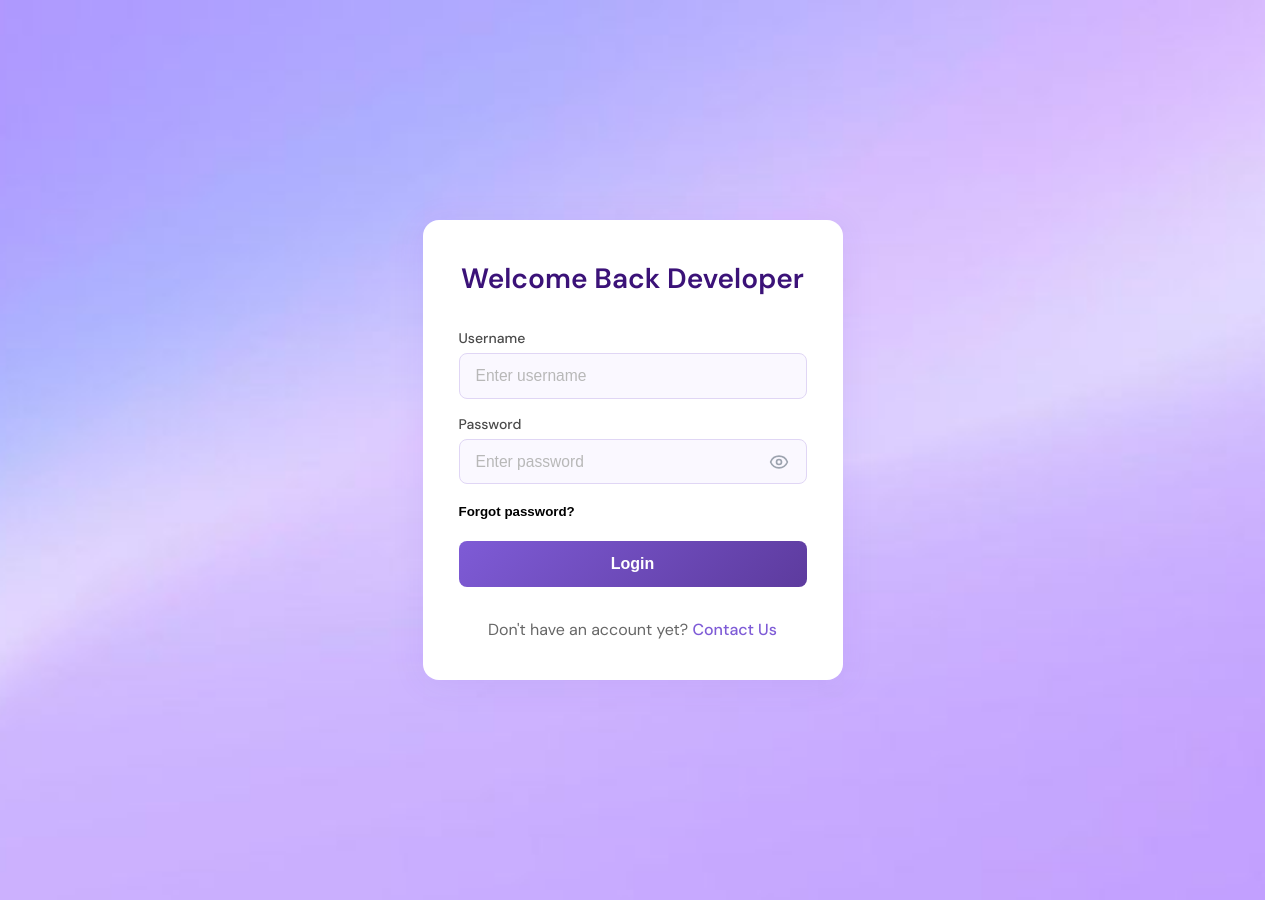
Scenario: LoginPage › shows a server-unreachable message when there is no response at all (network error)
Step 1. Type "devuser" into the field with placeholder "Enter username" → (632, 376), box [458,353,806,398]
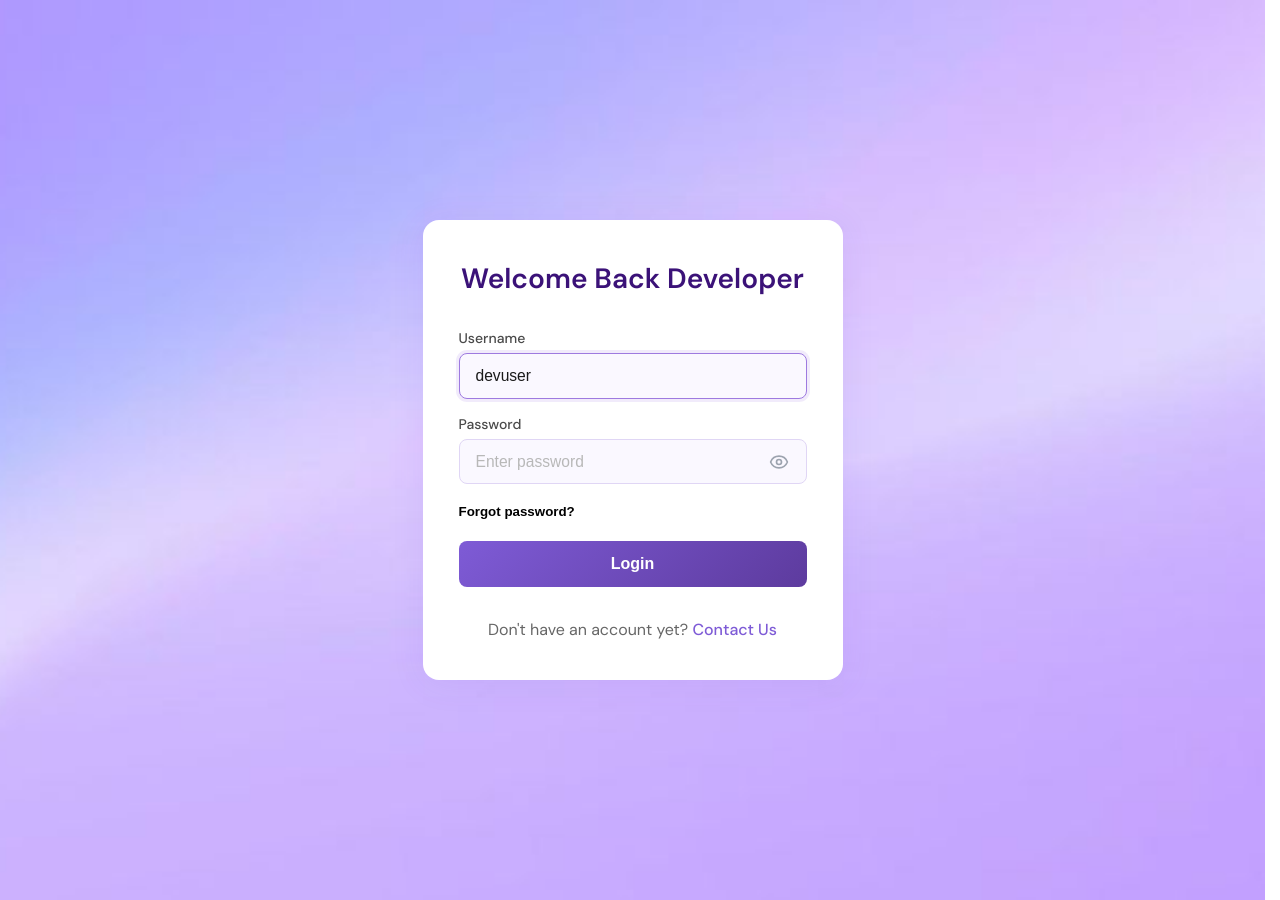
Step 2. Type "Password123!" into the password field with placeholder "Enter password" → (632, 462), box [458,439,806,484]
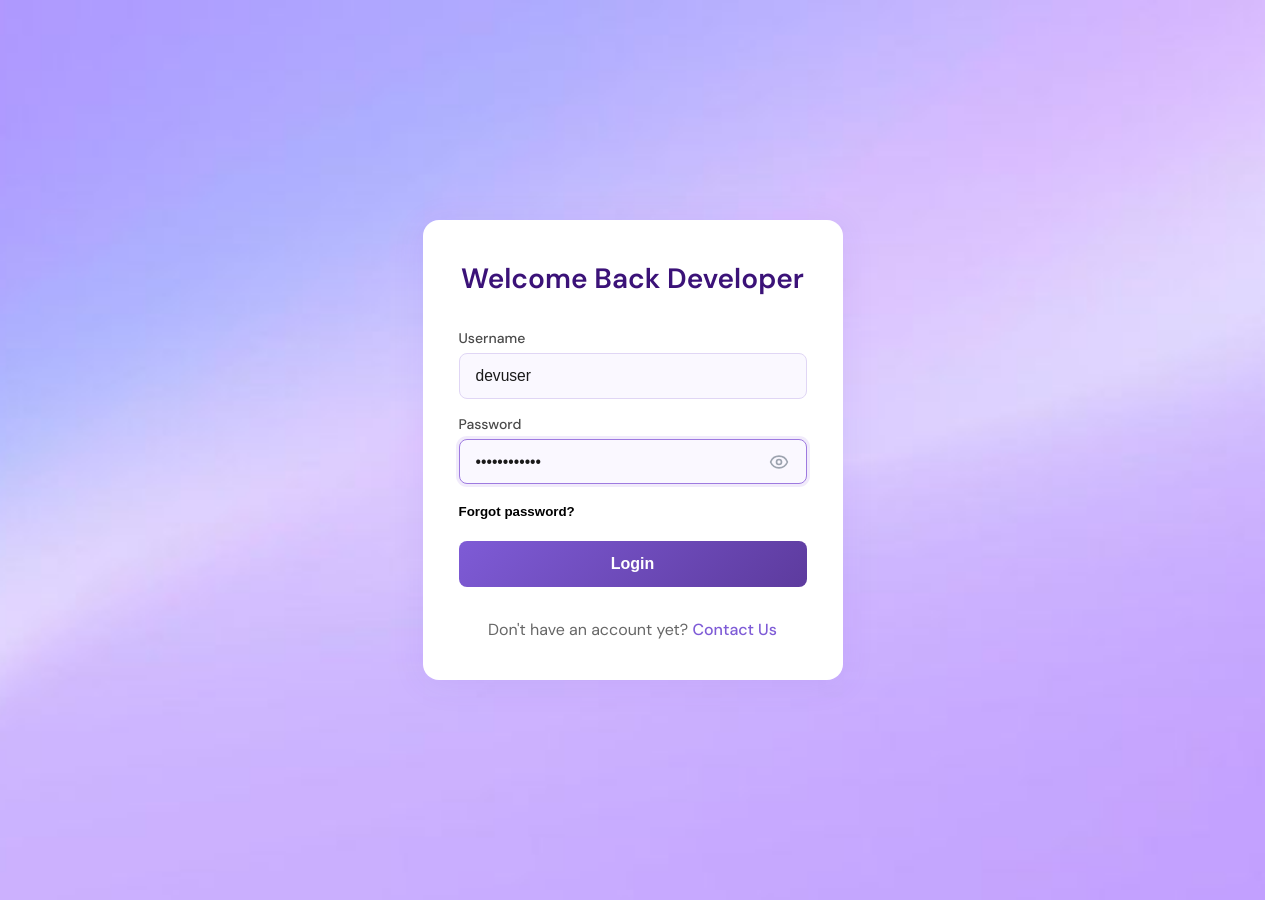
Step 3. Click the button "Login" → (632, 564), box [458,542,806,588]
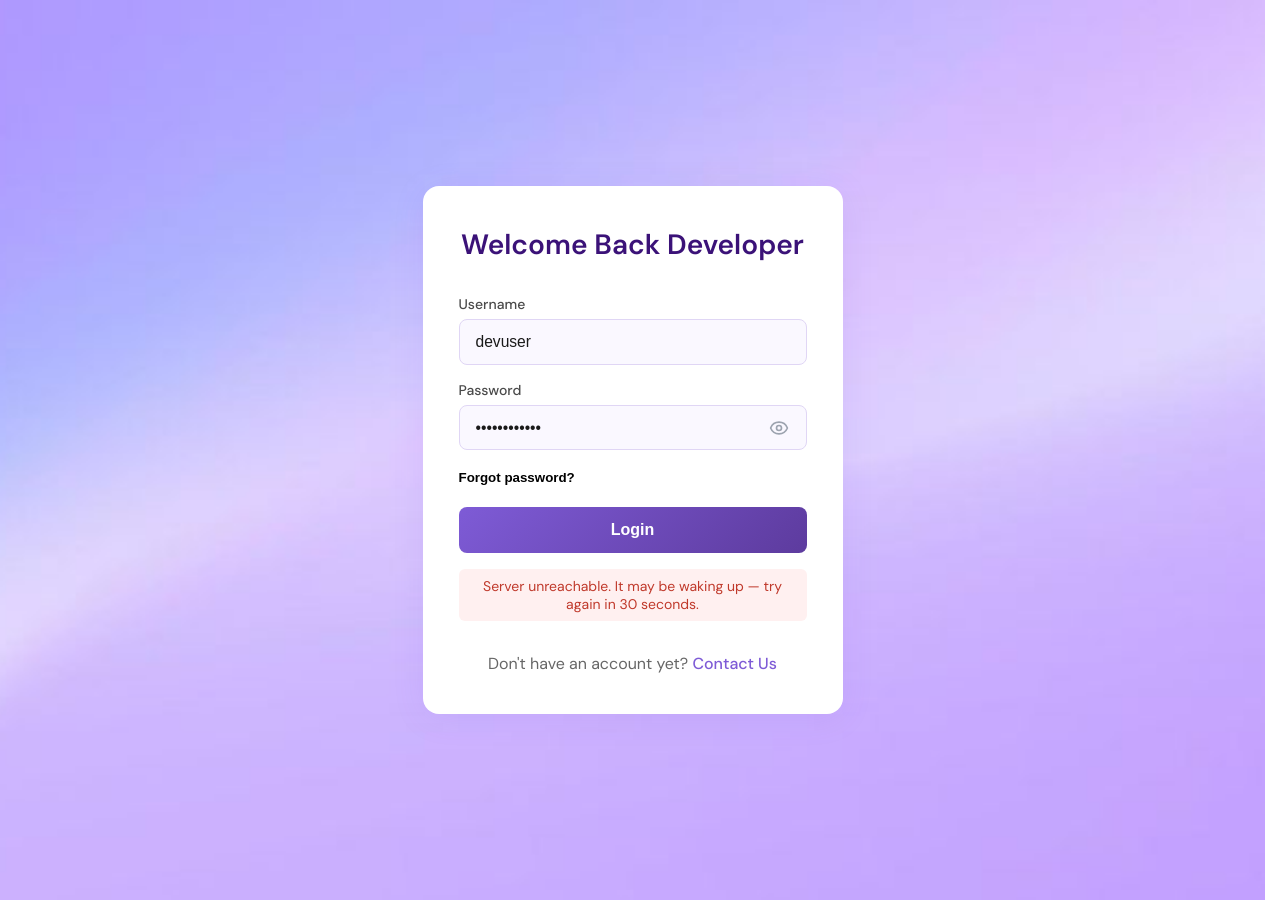
Check: the text "Server unreachable. It may be waking up — try again in 30 seconds." is shown, box [458,570,806,622]
